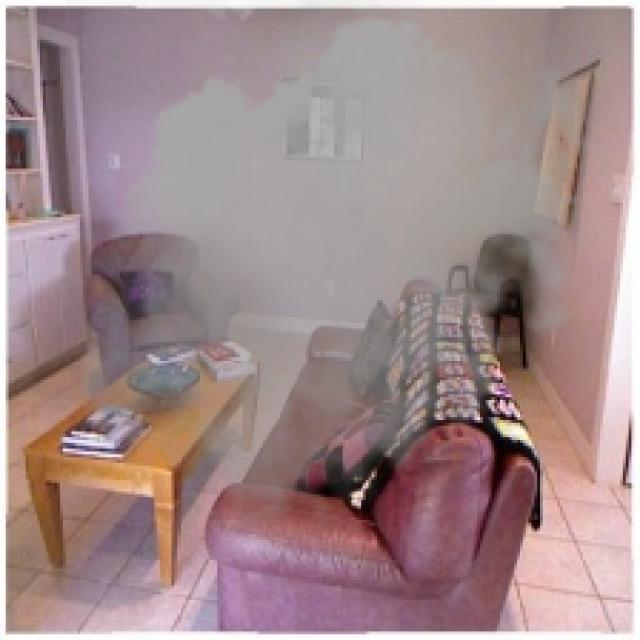Smoke: (66, 0, 608, 546)
